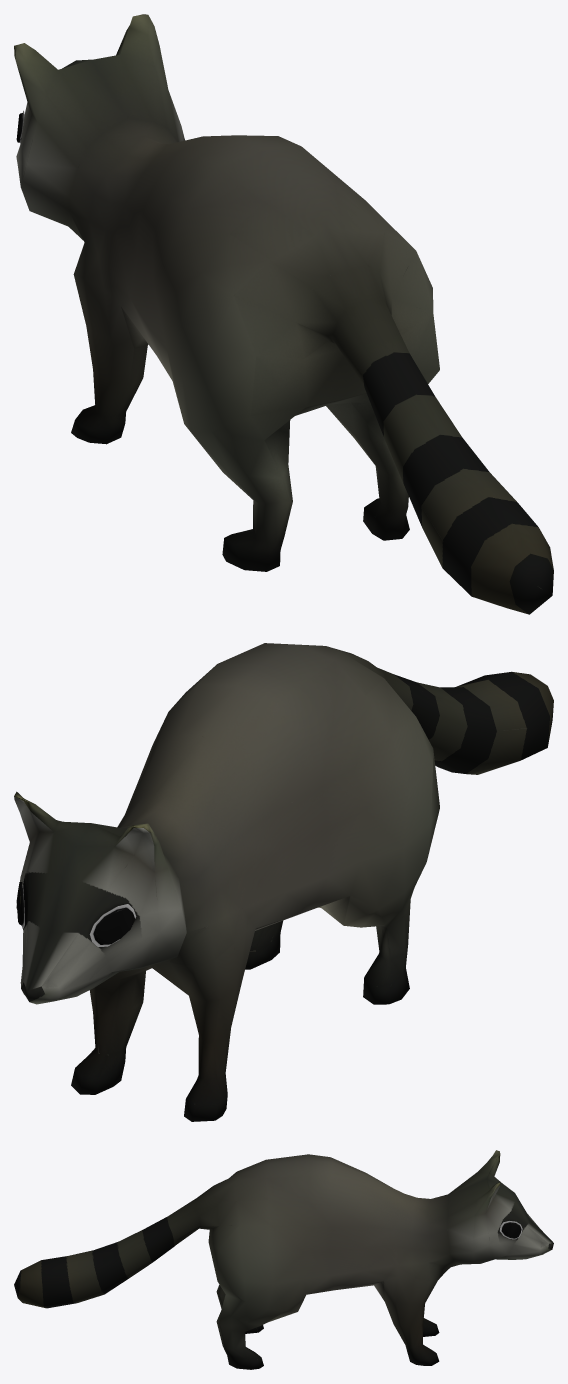
File: raccoon.obj
The picture shows the model from 3 angles, top to bottom: view 1: azimuth 30°, elevation 25°; view 2: azimuth 150°, elevation 25°; view 3: azimuth 270°, elevation 25°; orthographic projection. The views are drawn at different scales.
Visible parts, largest first — view 1: base.144_Mesh.001; view 2: base.144_Mesh.001; view 3: base.144_Mesh.001.
Part boxes in pixels (box(x1,y1,x2,y2)): base.144_Mesh.001: box(14, 14, 553, 614); base.144_Mesh.001: box(14, 643, 553, 1121); base.144_Mesh.001: box(14, 1150, 553, 1369).
Bounding box in the file's own units: 0.3257 × 0.4825 × 1.27.
Materials: 1 (1 with a texture image).
